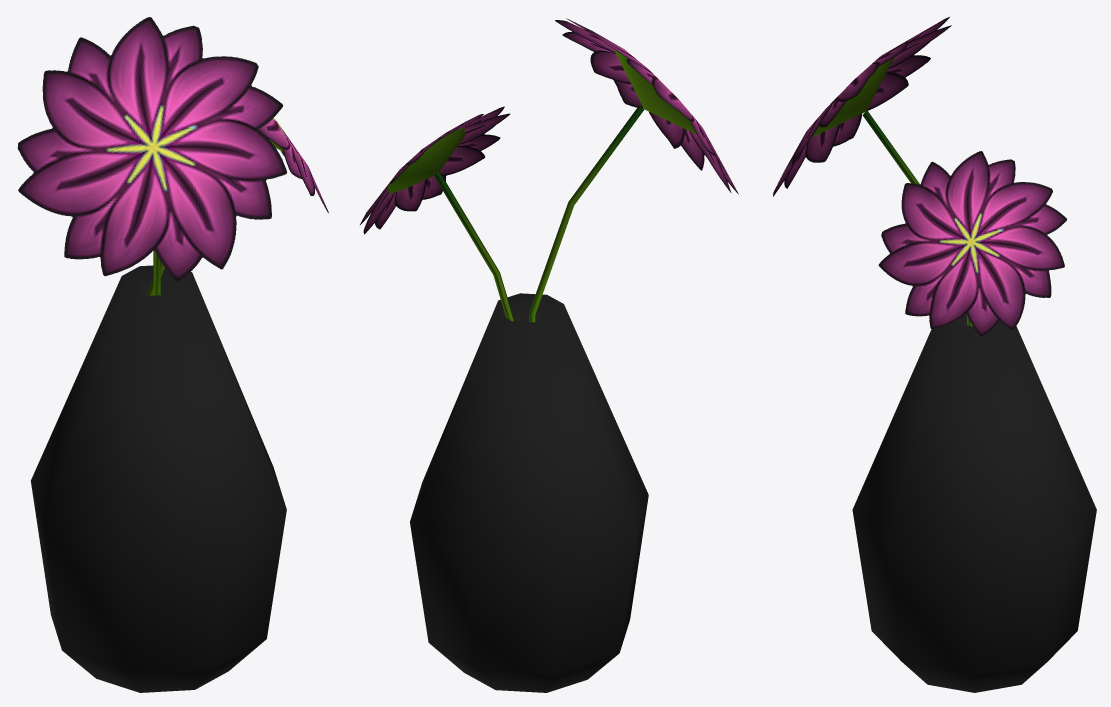
File: Flowers_C_2.FBX
3 renders of one model, left to right at view 1: azimuth 30°, elevation 25°; view 2: azimuth 150°, elevation 25°; view 3: azimuth 270°, elevation 25°, orthographic. The views are drawn at different scales.
Parts seen in each view (by area): view 1: Vase_And_Flowers; view 2: Vase_And_Flowers; view 3: Vase_And_Flowers.
Boxes of the visible parts, x1,y1,x2,y2 form: Vase_And_Flowers: (17, 17, 328, 692); Vase_And_Flowers: (359, 18, 738, 692); Vase_And_Flowers: (773, 17, 1096, 692).
Bounding box in the file's own units: 80.48 × 155 × 73.7.
